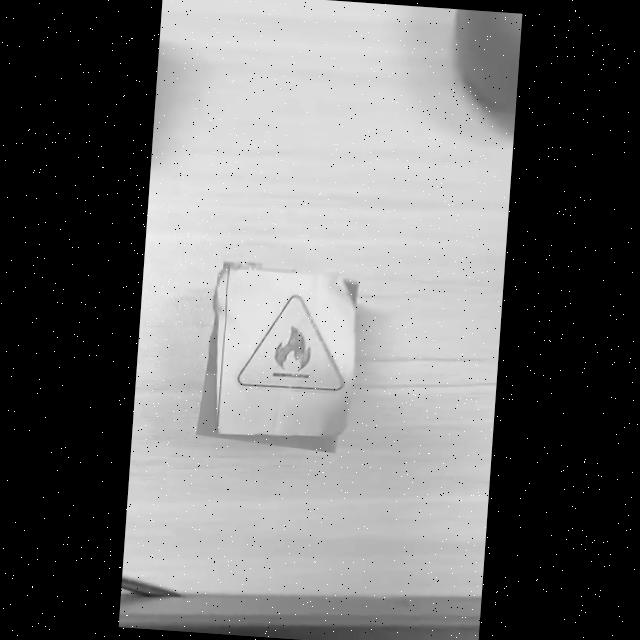Fire: (237, 295, 343, 391)
